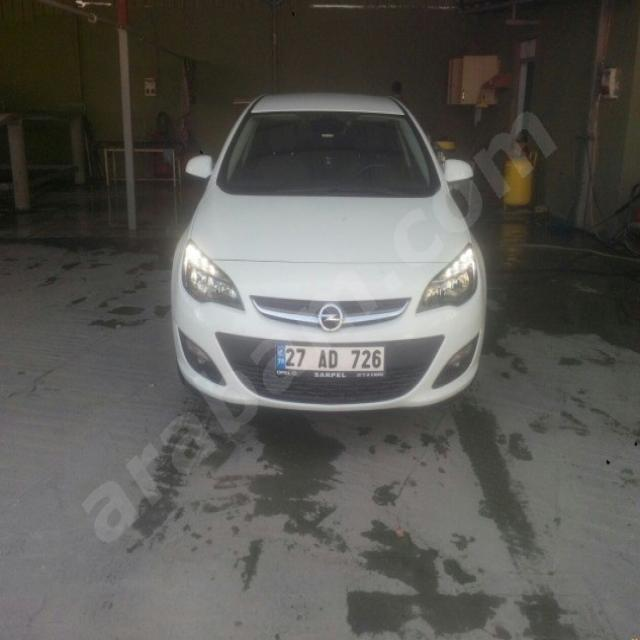license_plate: (276, 344, 384, 372)
